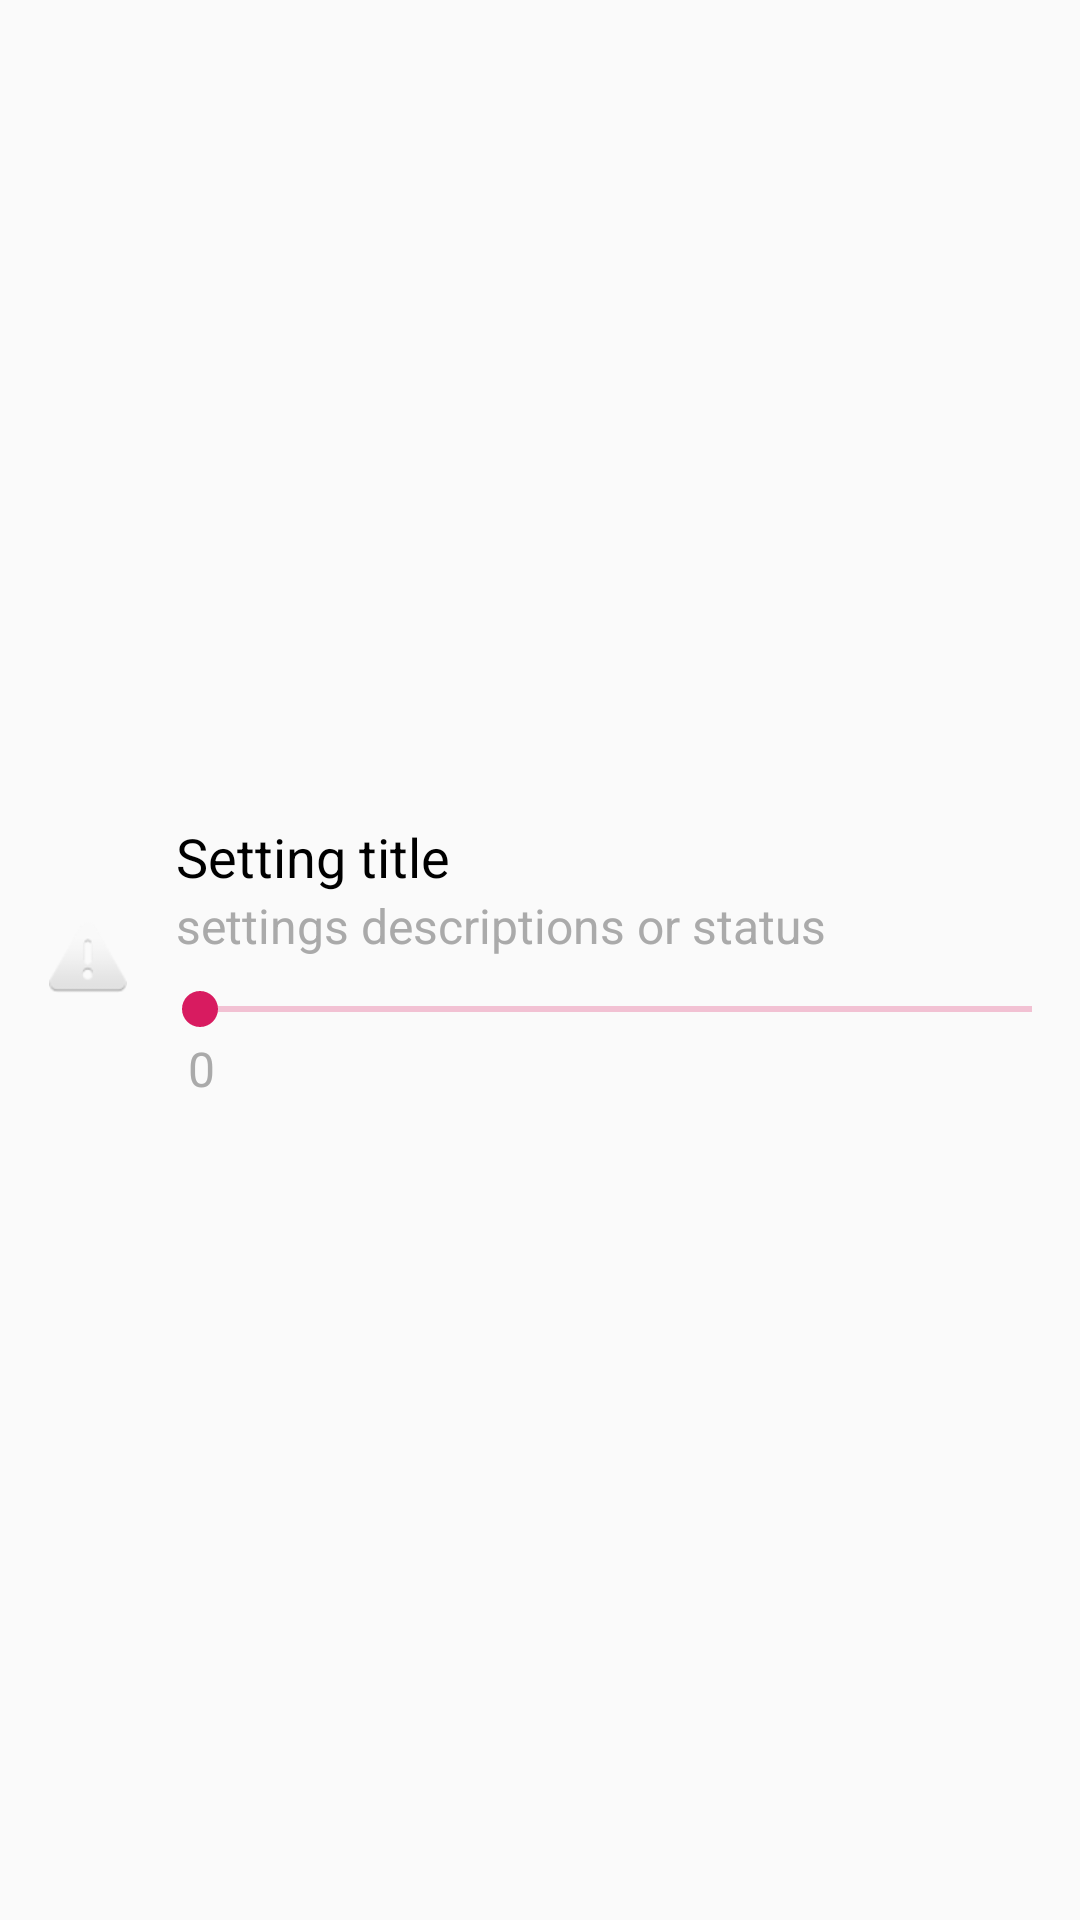

Where icons sit on this 1080 × 1920 app screen, as [x1,y1,x2,y2]:
alert: [49,939,126,992]
